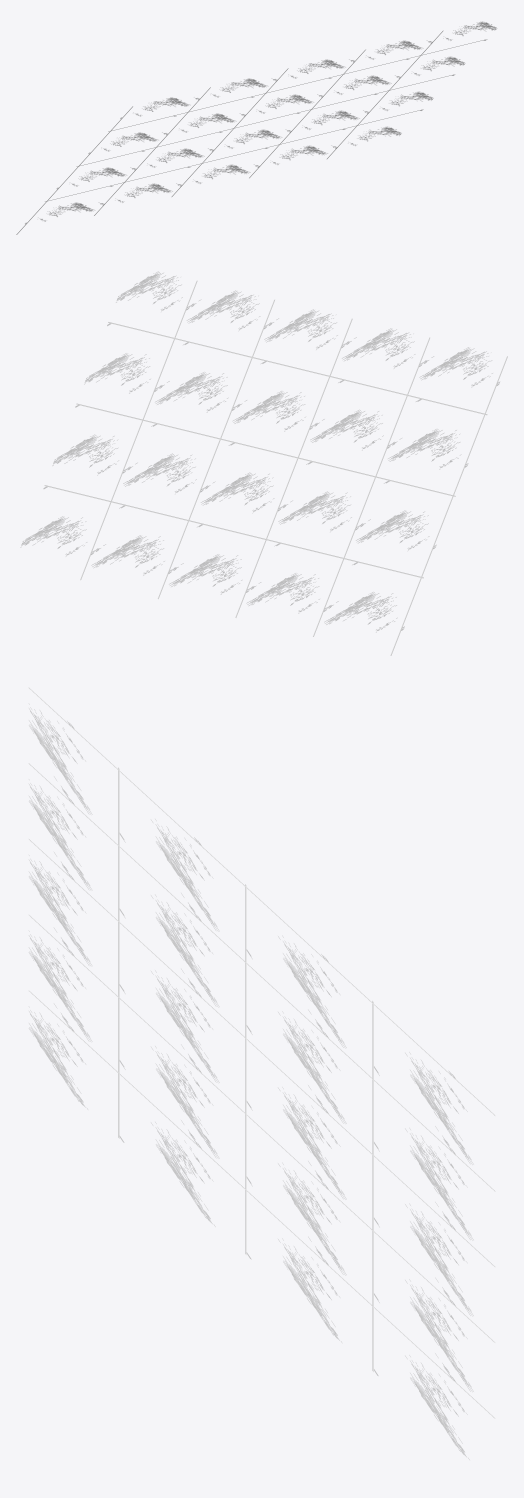
The model's file is B_axis_collider_6.glb.
3 views of the same model, one above another, from view 1: azimuth 30°, elevation 25°; view 2: azimuth 150°, elevation 25°; view 3: azimuth 270°, elevation 25° (orthographic). The views are drawn at different scales.
Parts seen in each view (by area): view 1: B_Axis_wall_collide.6; view 2: B_Axis_wall_collide.6; view 3: B_Axis_wall_collide.6.
Part boxes in pixels (bbox=[...]): B_Axis_wall_collide.6: bbox=[16, 21, 496, 234]; B_Axis_wall_collide.6: bbox=[20, 271, 507, 655]; B_Axis_wall_collide.6: bbox=[28, 687, 495, 1459].
Bounding box in the file's own units: 9.2 × 4.96 × 4.9.
Materials: 1 (1 with a texture image).
